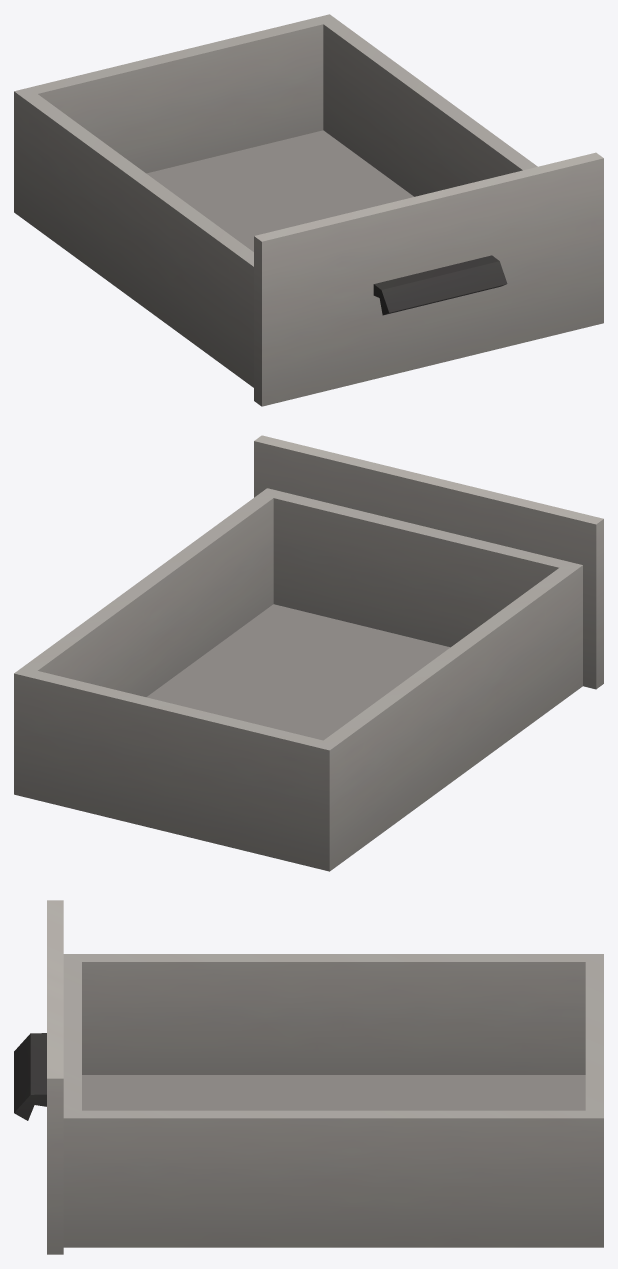
The model's file is DeskSideCabinet_Small_MiddleDrawer.fbx.
3 renders of one model, top to bottom at view 1: azimuth 30°, elevation 25°; view 2: azimuth 150°, elevation 25°; view 3: azimuth 270°, elevation 25°, orthographic. The views are drawn at different scales.
Visible parts, largest first — view 1: DeskSideCabinet_Small_MiddleDrawer; view 2: DeskSideCabinet_Small_MiddleDrawer; view 3: DeskSideCabinet_Small_MiddleDrawer.
Boxes of the visible parts, x1,y1,x2,y2 form: DeskSideCabinet_Small_MiddleDrawer: [14, 14, 603, 406]; DeskSideCabinet_Small_MiddleDrawer: [14, 435, 603, 871]; DeskSideCabinet_Small_MiddleDrawer: [14, 900, 603, 1254].
Bounding box in the file's own units: 38.88 × 17.91 × 54.43.
